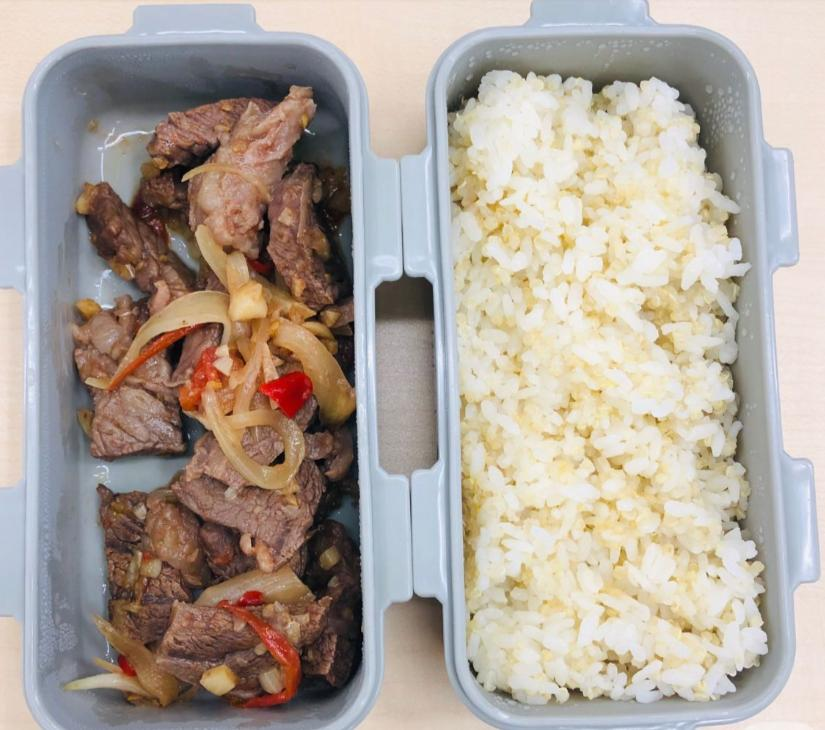daging: (152, 134, 324, 687)
makanan_berpati: (480, 122, 696, 651)
